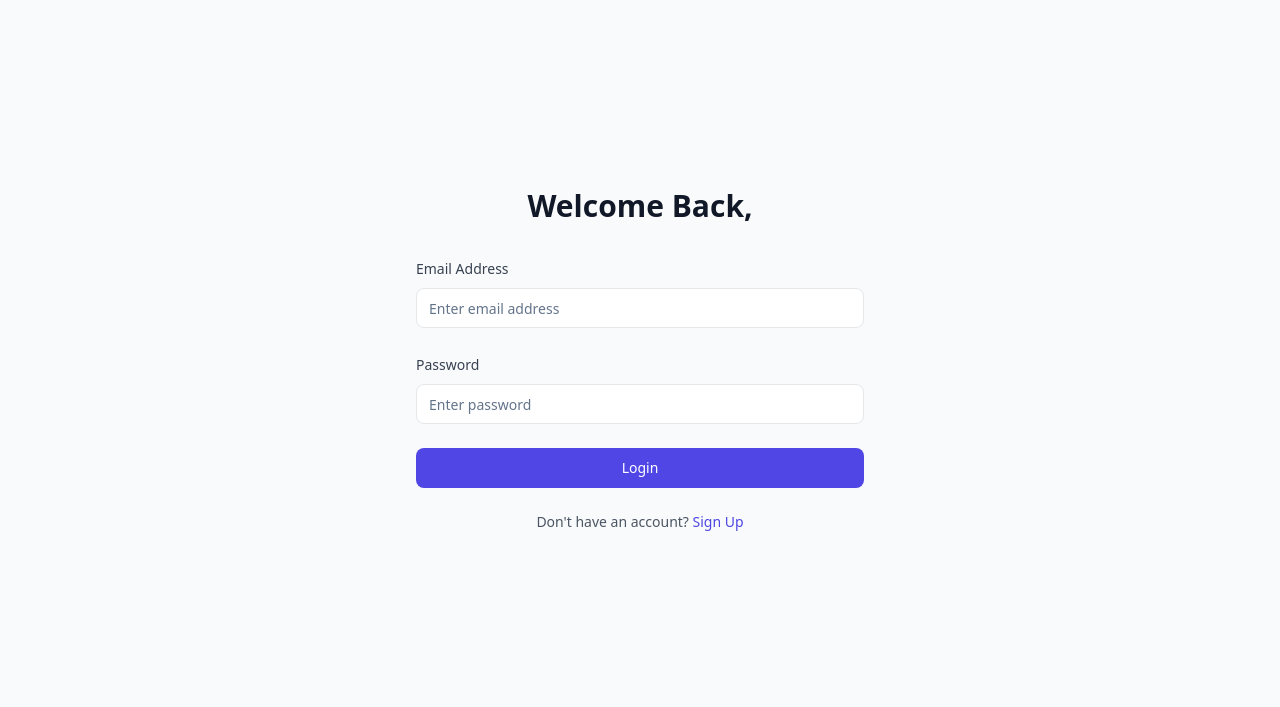
Bookmark Functionality › Authenticated User › should successfully bookmark a job
In the field labelled "Email Address": [640, 308] box top-left (416, 288), bottom-right (864, 328), type "test@example.com"
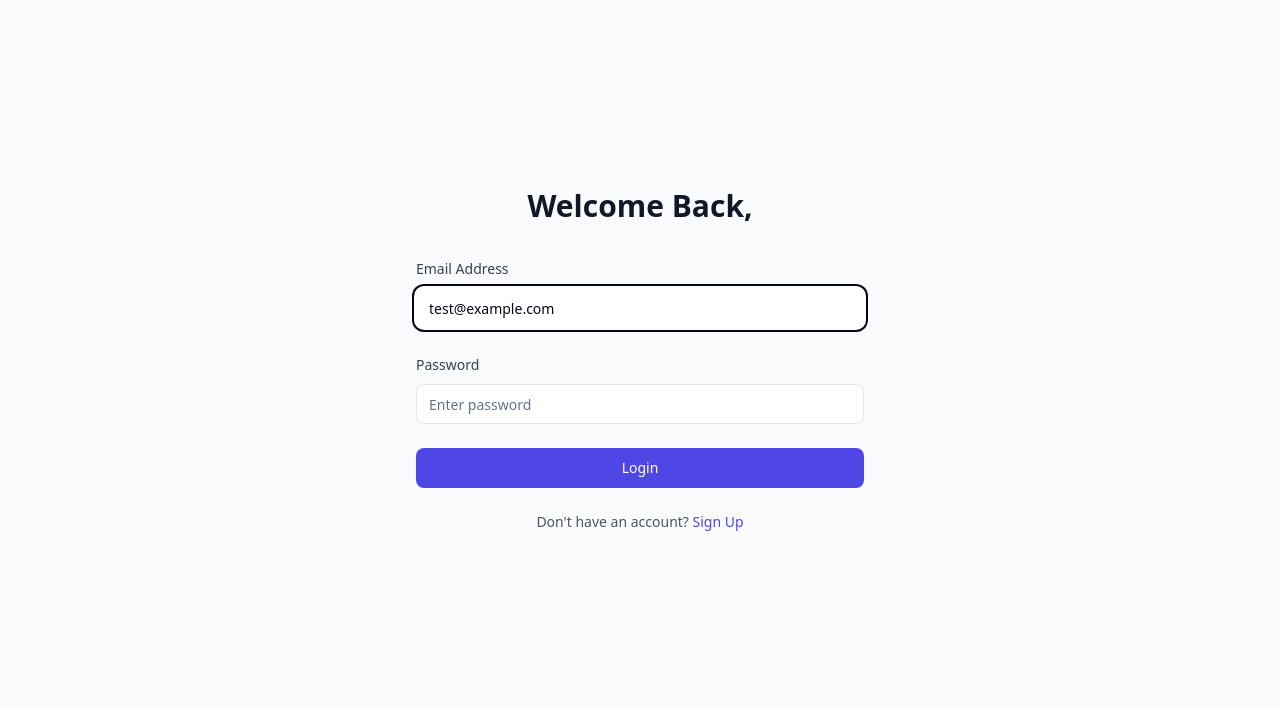
In the password field labelled "Password": [640, 404] box top-left (416, 384), bottom-right (864, 424), type "Test123456"
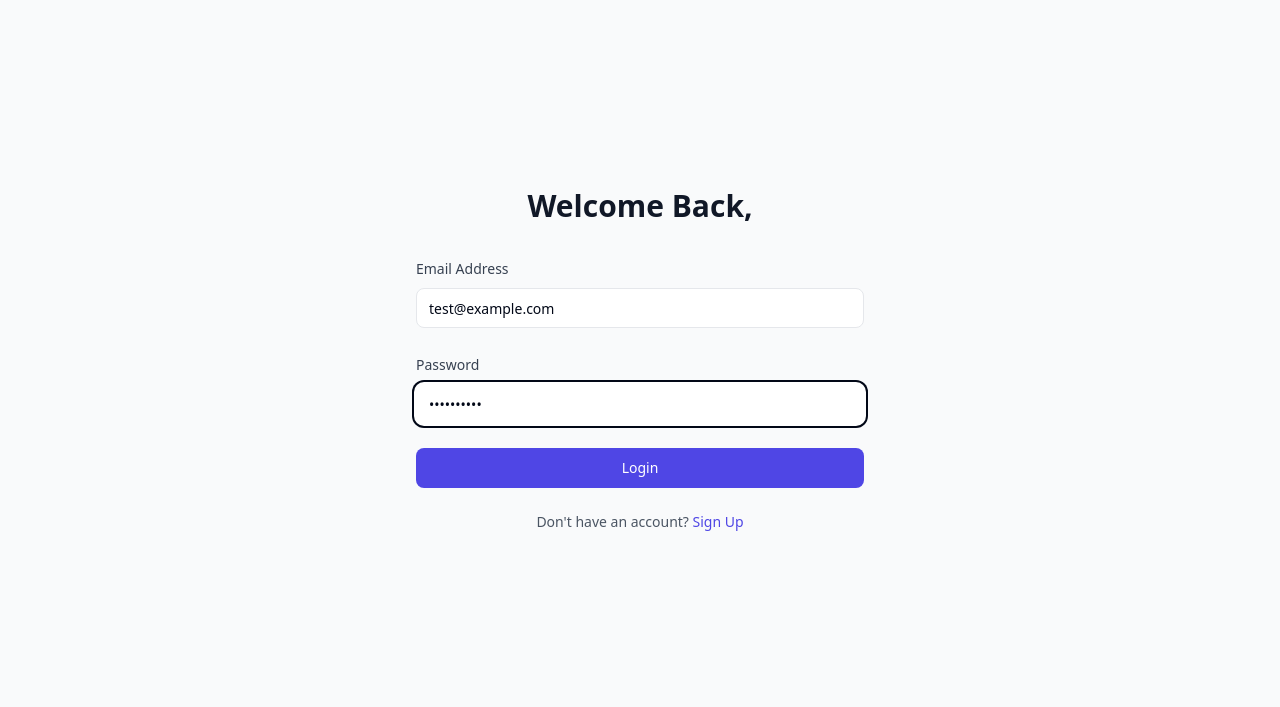
Click the submit button: [640, 468] box top-left (416, 448), bottom-right (864, 488)
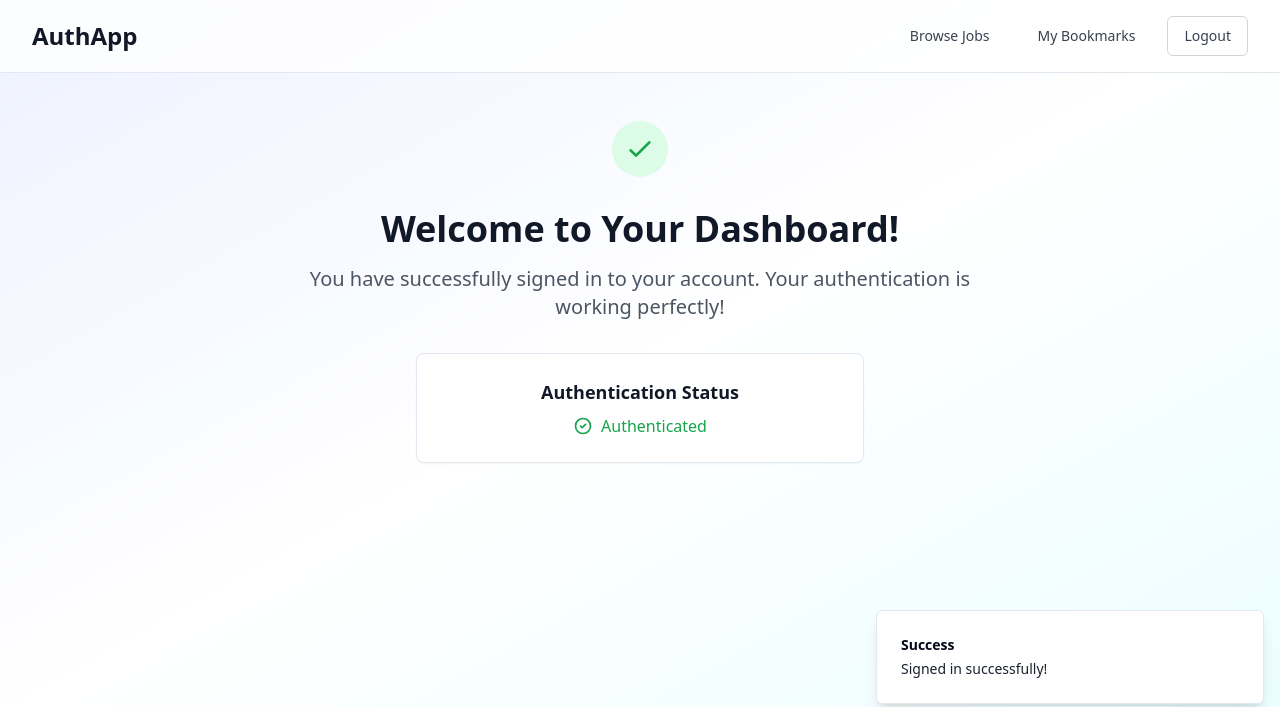
Open "/jobs"
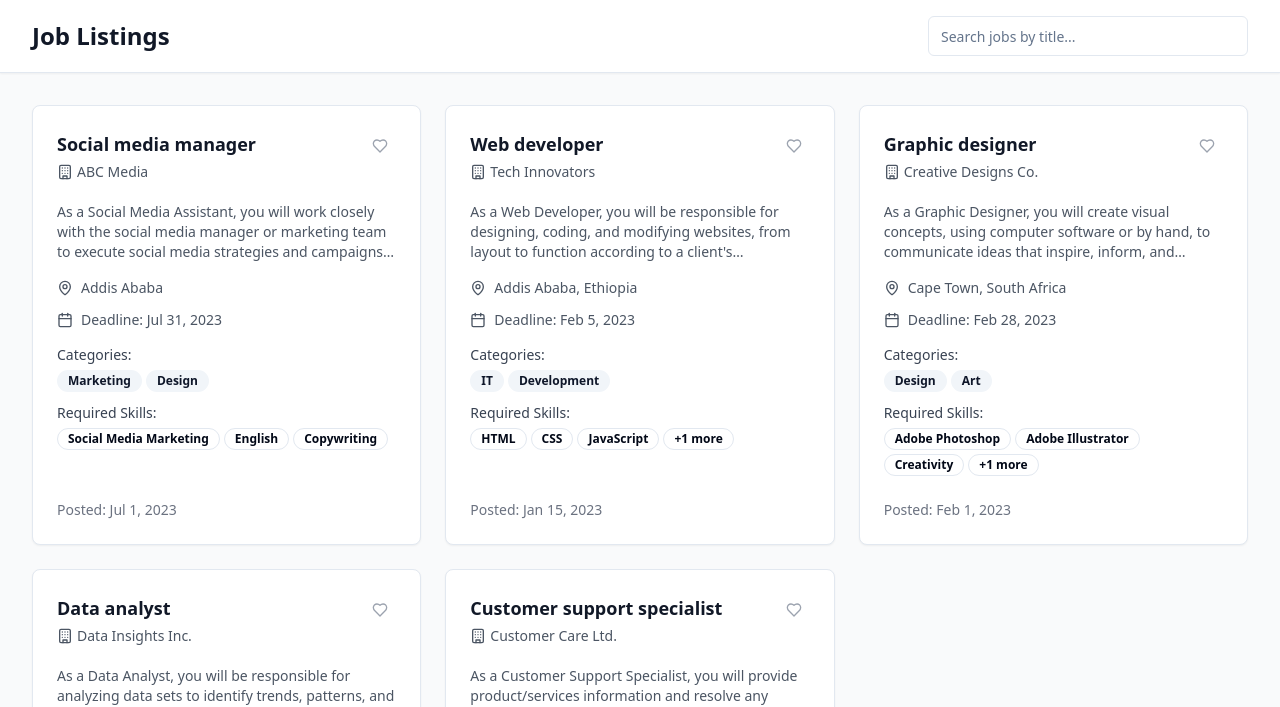
Click the button with test id "bookmark-button": [380, 146] box top-left (364, 130), bottom-right (396, 162)
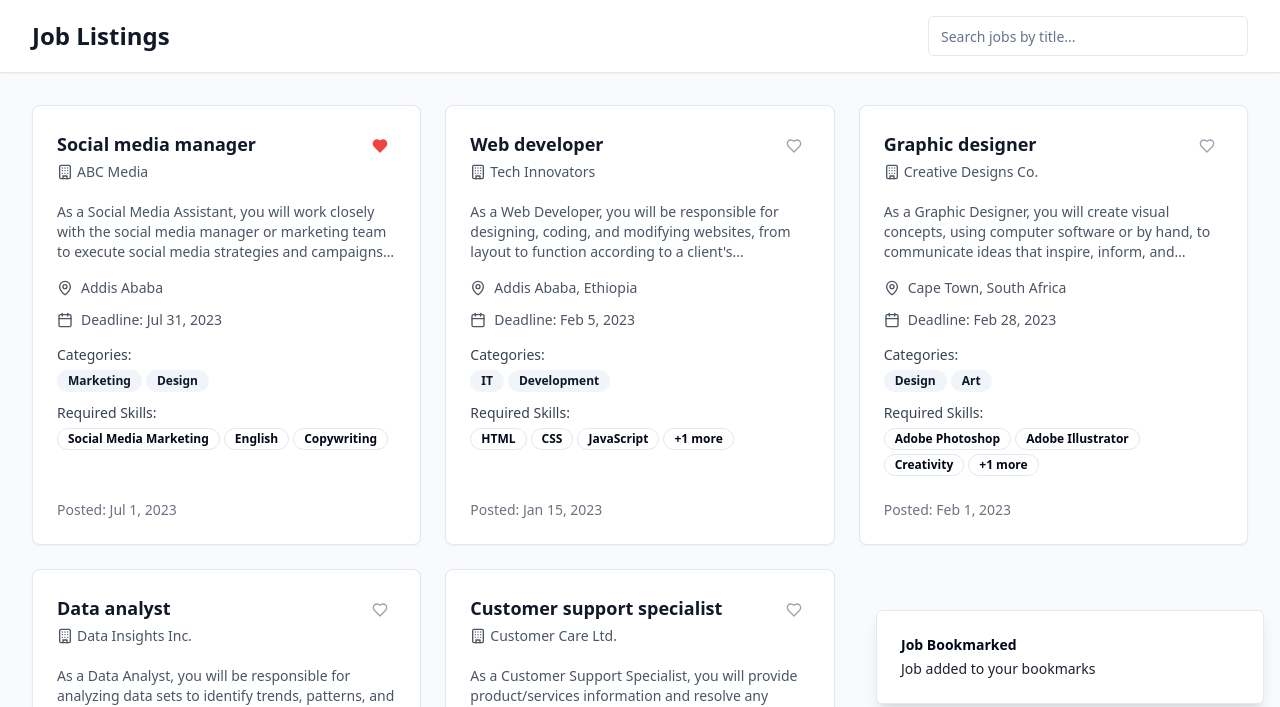
Now the text "Job Bookmarked" is shown, box top-left (901, 635), bottom-right (1017, 654)
